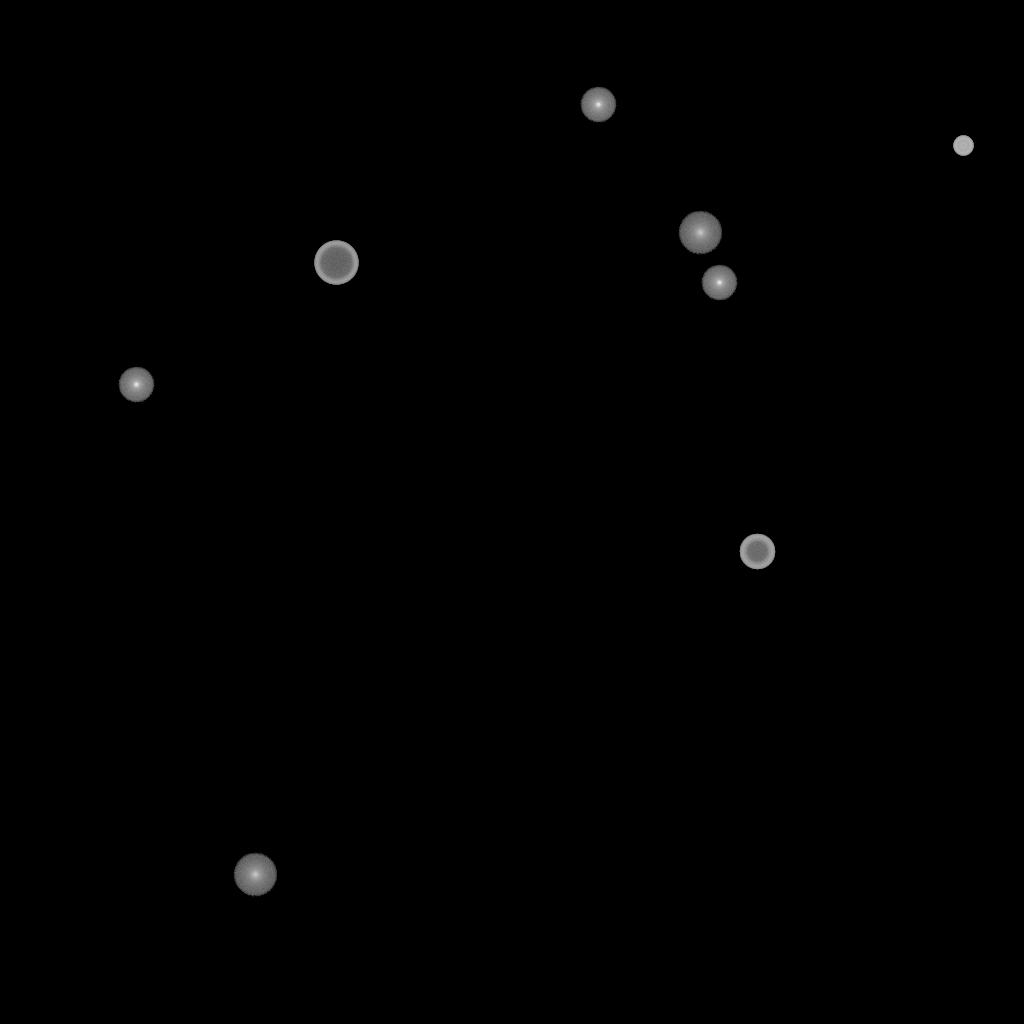depth:-40: (953, 136, 973, 156)
depth:-60: (739, 534, 775, 570)
depth:-70: (314, 241, 358, 285)
depth:0: (701, 265, 737, 301), (118, 367, 154, 403), (580, 87, 616, 123)
depth:10: (233, 853, 277, 897), (678, 211, 722, 255)
